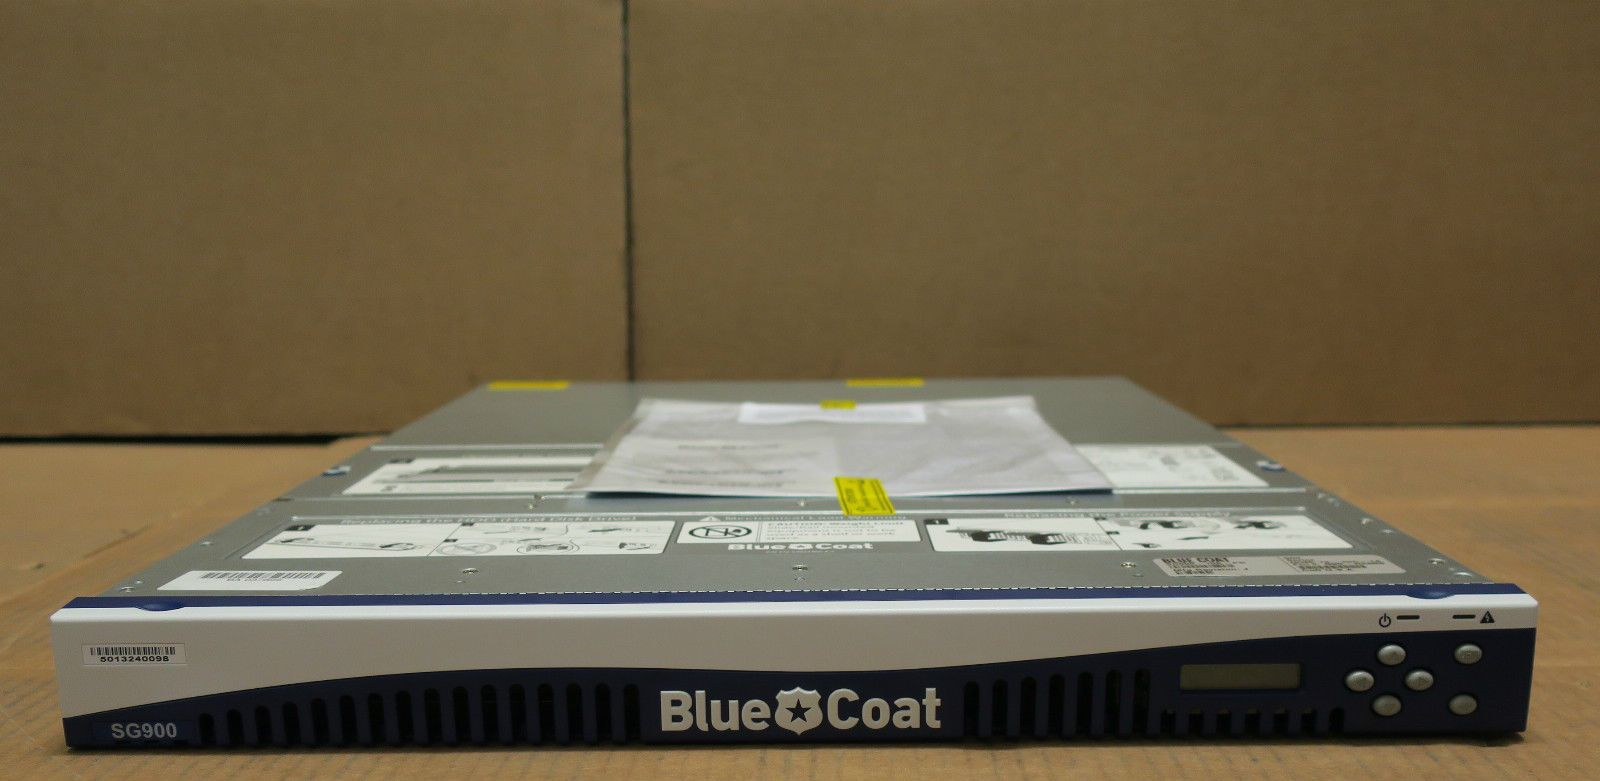Load Balancer: (34, 568, 1557, 756)
